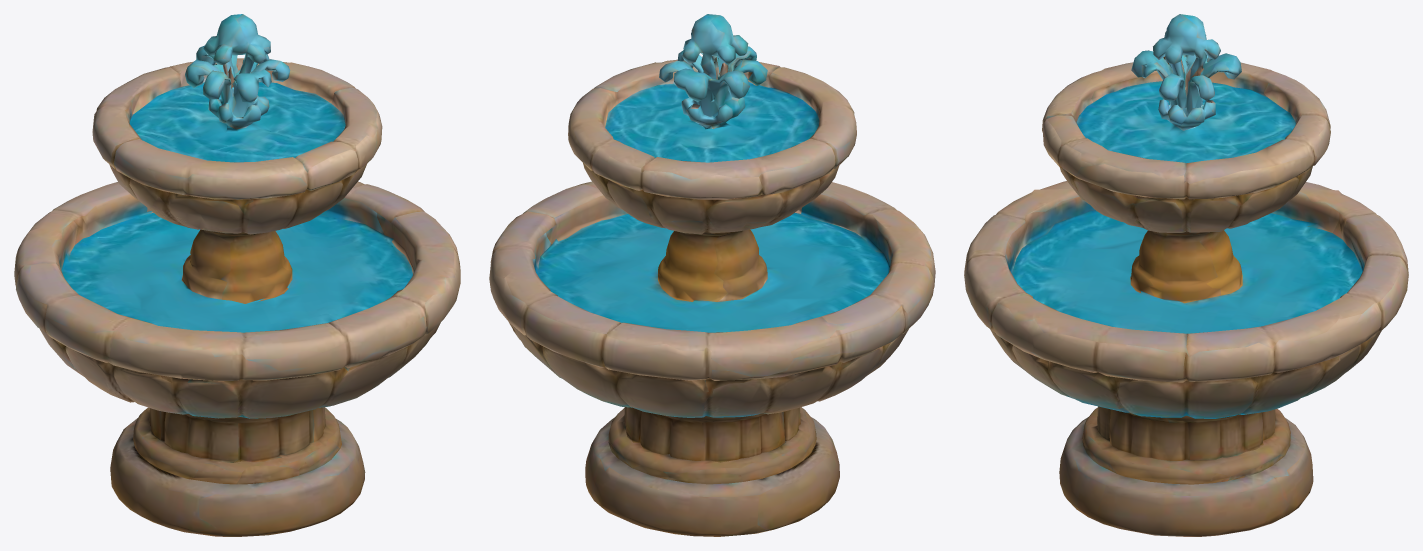
File: fountain.glb
3 views of the same model, side by side, from view 1: azimuth 30°, elevation 25°; view 2: azimuth 150°, elevation 25°; view 3: azimuth 270°, elevation 25° (orthographic).
Parts seen in each view (by area): view 1: textured_mesh.obj; view 2: textured_mesh.obj; view 3: textured_mesh.obj.
Boxes of the visible parts, box(x1,y1,x2,y2) form: textured_mesh.obj: box(14, 14, 460, 536); textured_mesh.obj: box(489, 14, 935, 536); textured_mesh.obj: box(964, 14, 1408, 536).
Size of what is drawn, in the model's own units: 1.21 by 1.4 by 1.2.
1 material, 1 textured.
